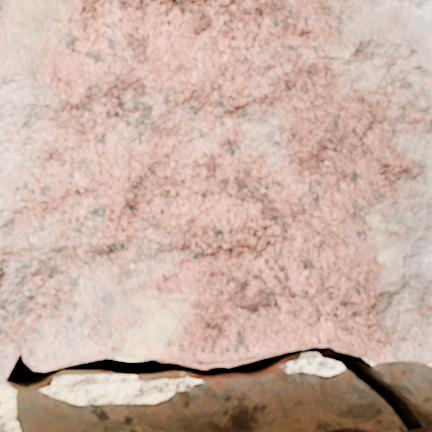brick: (414, 427, 431, 431), (333, 429, 365, 431)
broken_brick: (0, 0, 431, 379)
crack: (2, 345, 429, 431)
